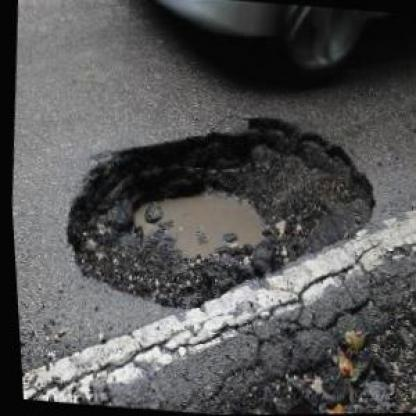pothole: (50, 94, 388, 329)
